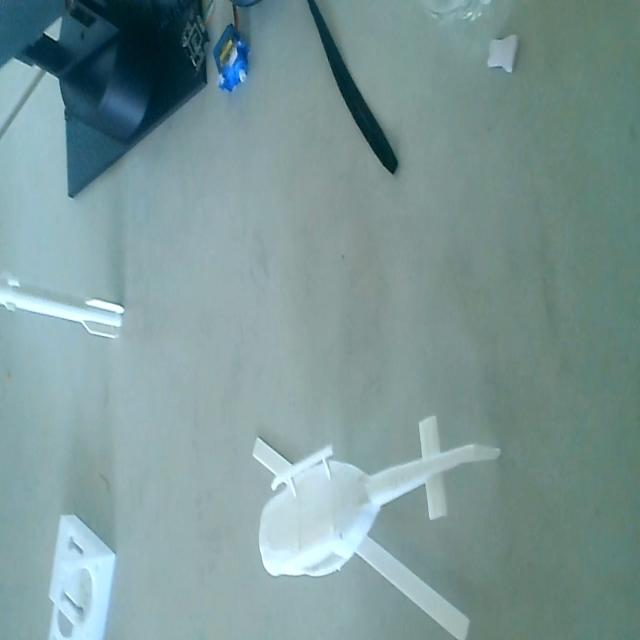Helicopter: (245, 413, 501, 640)
Rocket: (0, 262, 125, 344)
